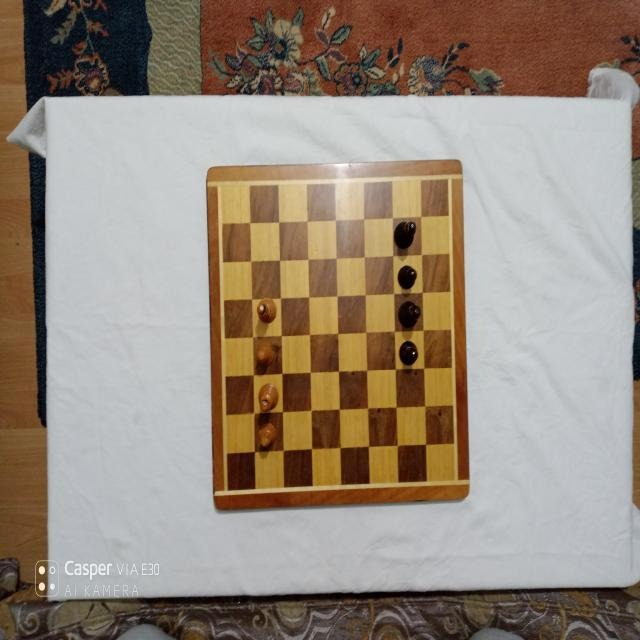black-bishop: (393, 219, 416, 249), (398, 300, 421, 328)
black-pawn: (398, 340, 418, 366), (397, 264, 417, 290)
white-bishop: (257, 382, 279, 413), (256, 296, 277, 324)
white-pawn: (258, 421, 278, 449), (255, 341, 273, 367)
